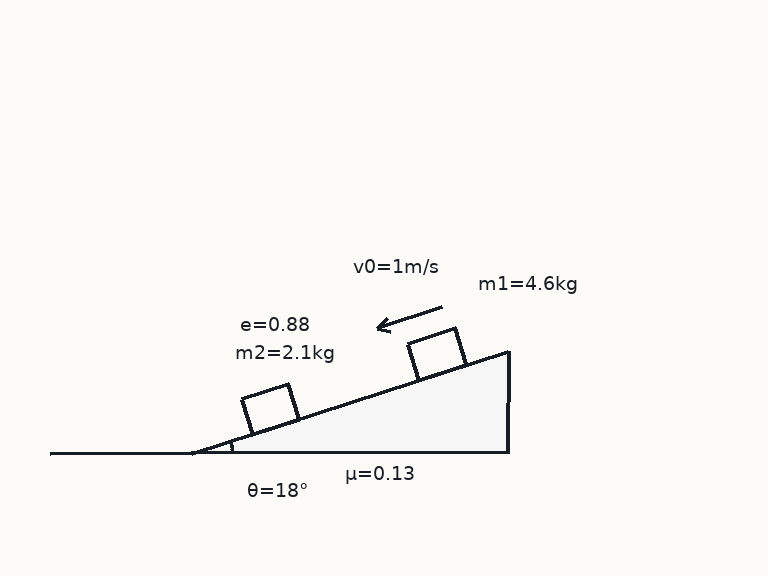block: (404, 326, 468, 382), (239, 382, 301, 435)
ramp: (190, 348, 510, 455)
